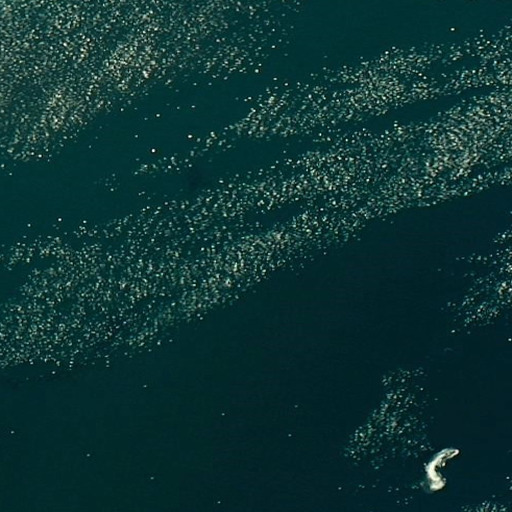ship: (436, 445, 460, 463)
